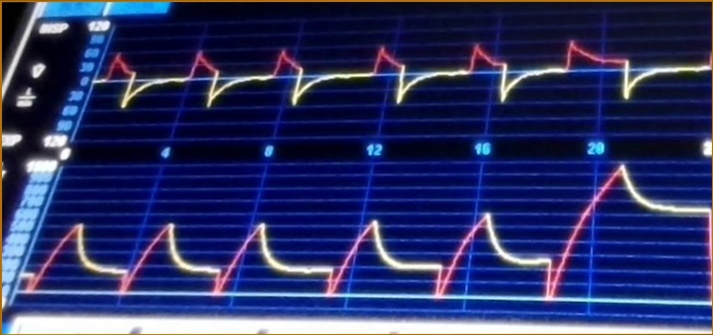Flow: (103, 33, 689, 136)
Leakage Volume: (24, 170, 691, 311)
